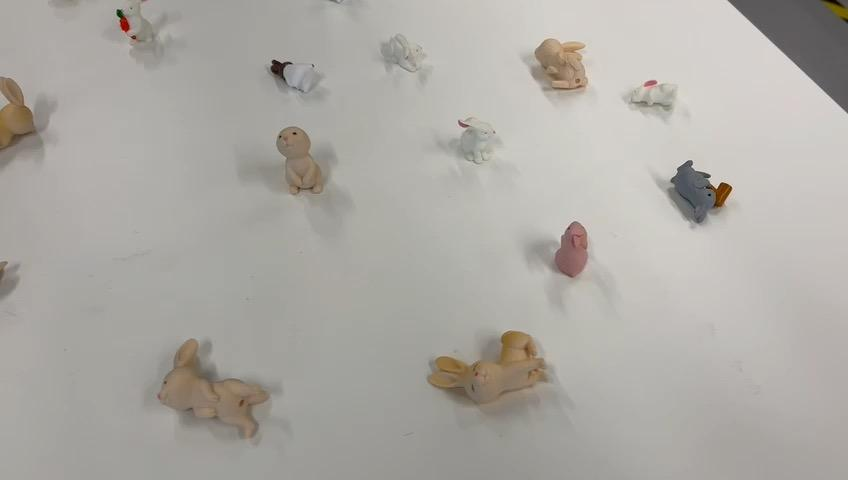pet: (156, 328, 269, 447), (413, 328, 582, 400), (88, 0, 185, 90), (668, 145, 743, 255), (261, 120, 347, 206), (0, 58, 47, 182), (531, 25, 599, 103), (548, 223, 620, 296), (263, 38, 334, 108), (378, 33, 447, 102), (443, 105, 502, 179), (633, 73, 685, 129)
